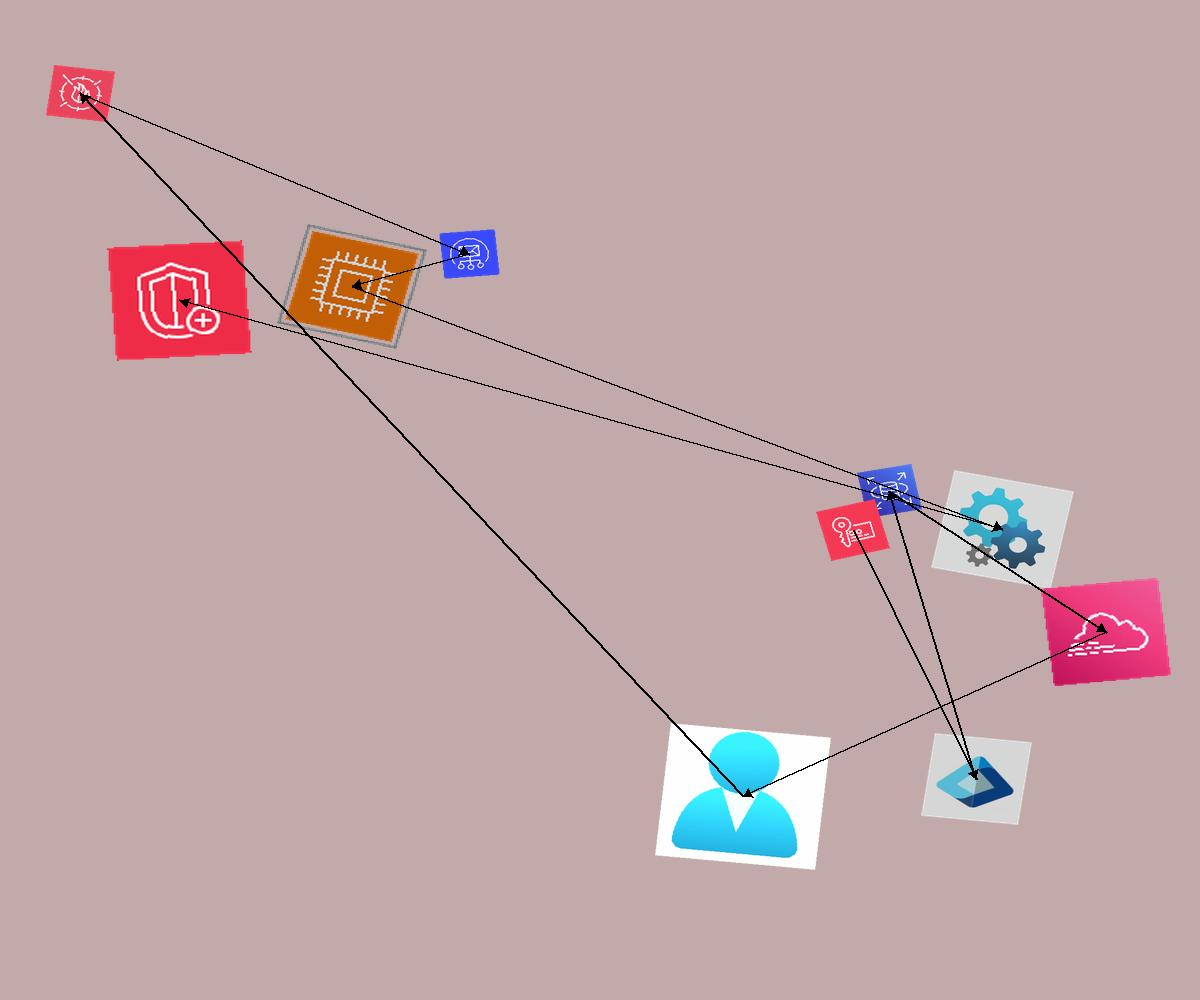AWS-Category_Compute: (277, 224, 427, 349)
AWS-CloudTrail: (1040, 577, 1172, 687)
AWS-Key-Management-Service: (816, 499, 890, 561)
AWS-RDS: (857, 464, 922, 518)
AWS-Shield: (107, 240, 252, 361)
AWS-Simple-Email-Service: (439, 229, 500, 279)
AWS-WAF: (46, 65, 115, 122)
Azure_api: (931, 470, 1074, 589)
Azure_microsoft_entra: (921, 733, 1032, 825)
Azure_users: (655, 723, 831, 870)
